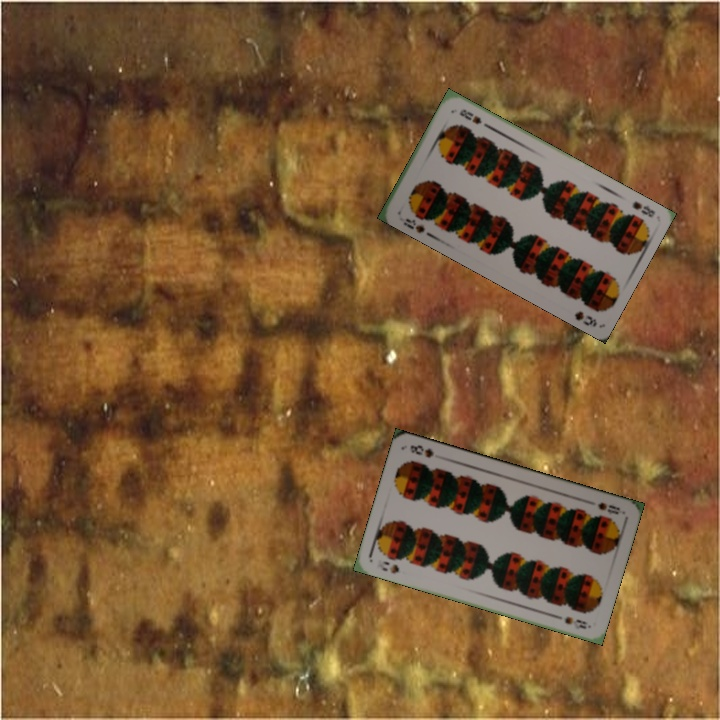S8: (628, 197, 658, 220), (399, 214, 427, 236), (593, 498, 622, 517), (378, 557, 402, 576)
